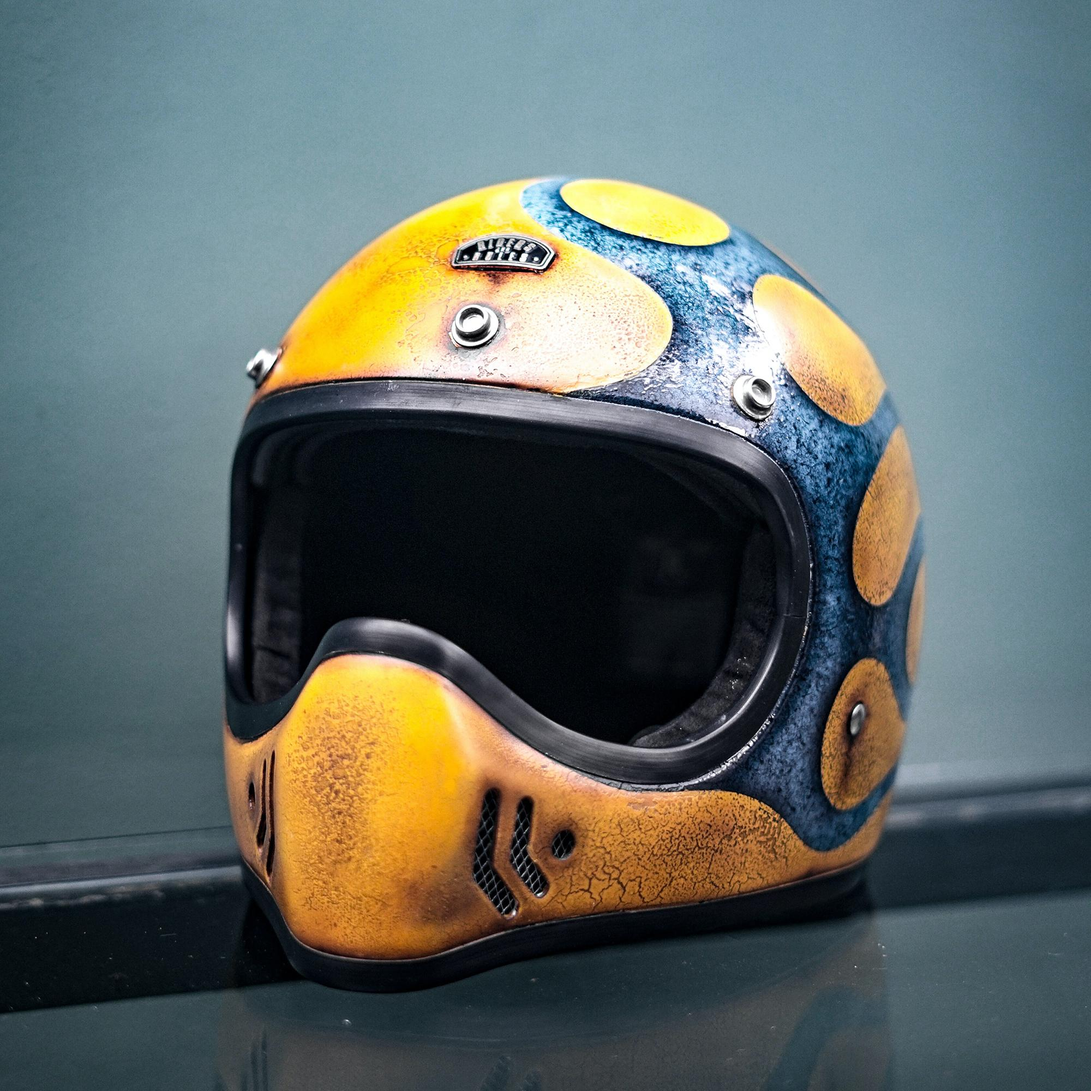helmet: (218, 173, 929, 999)
